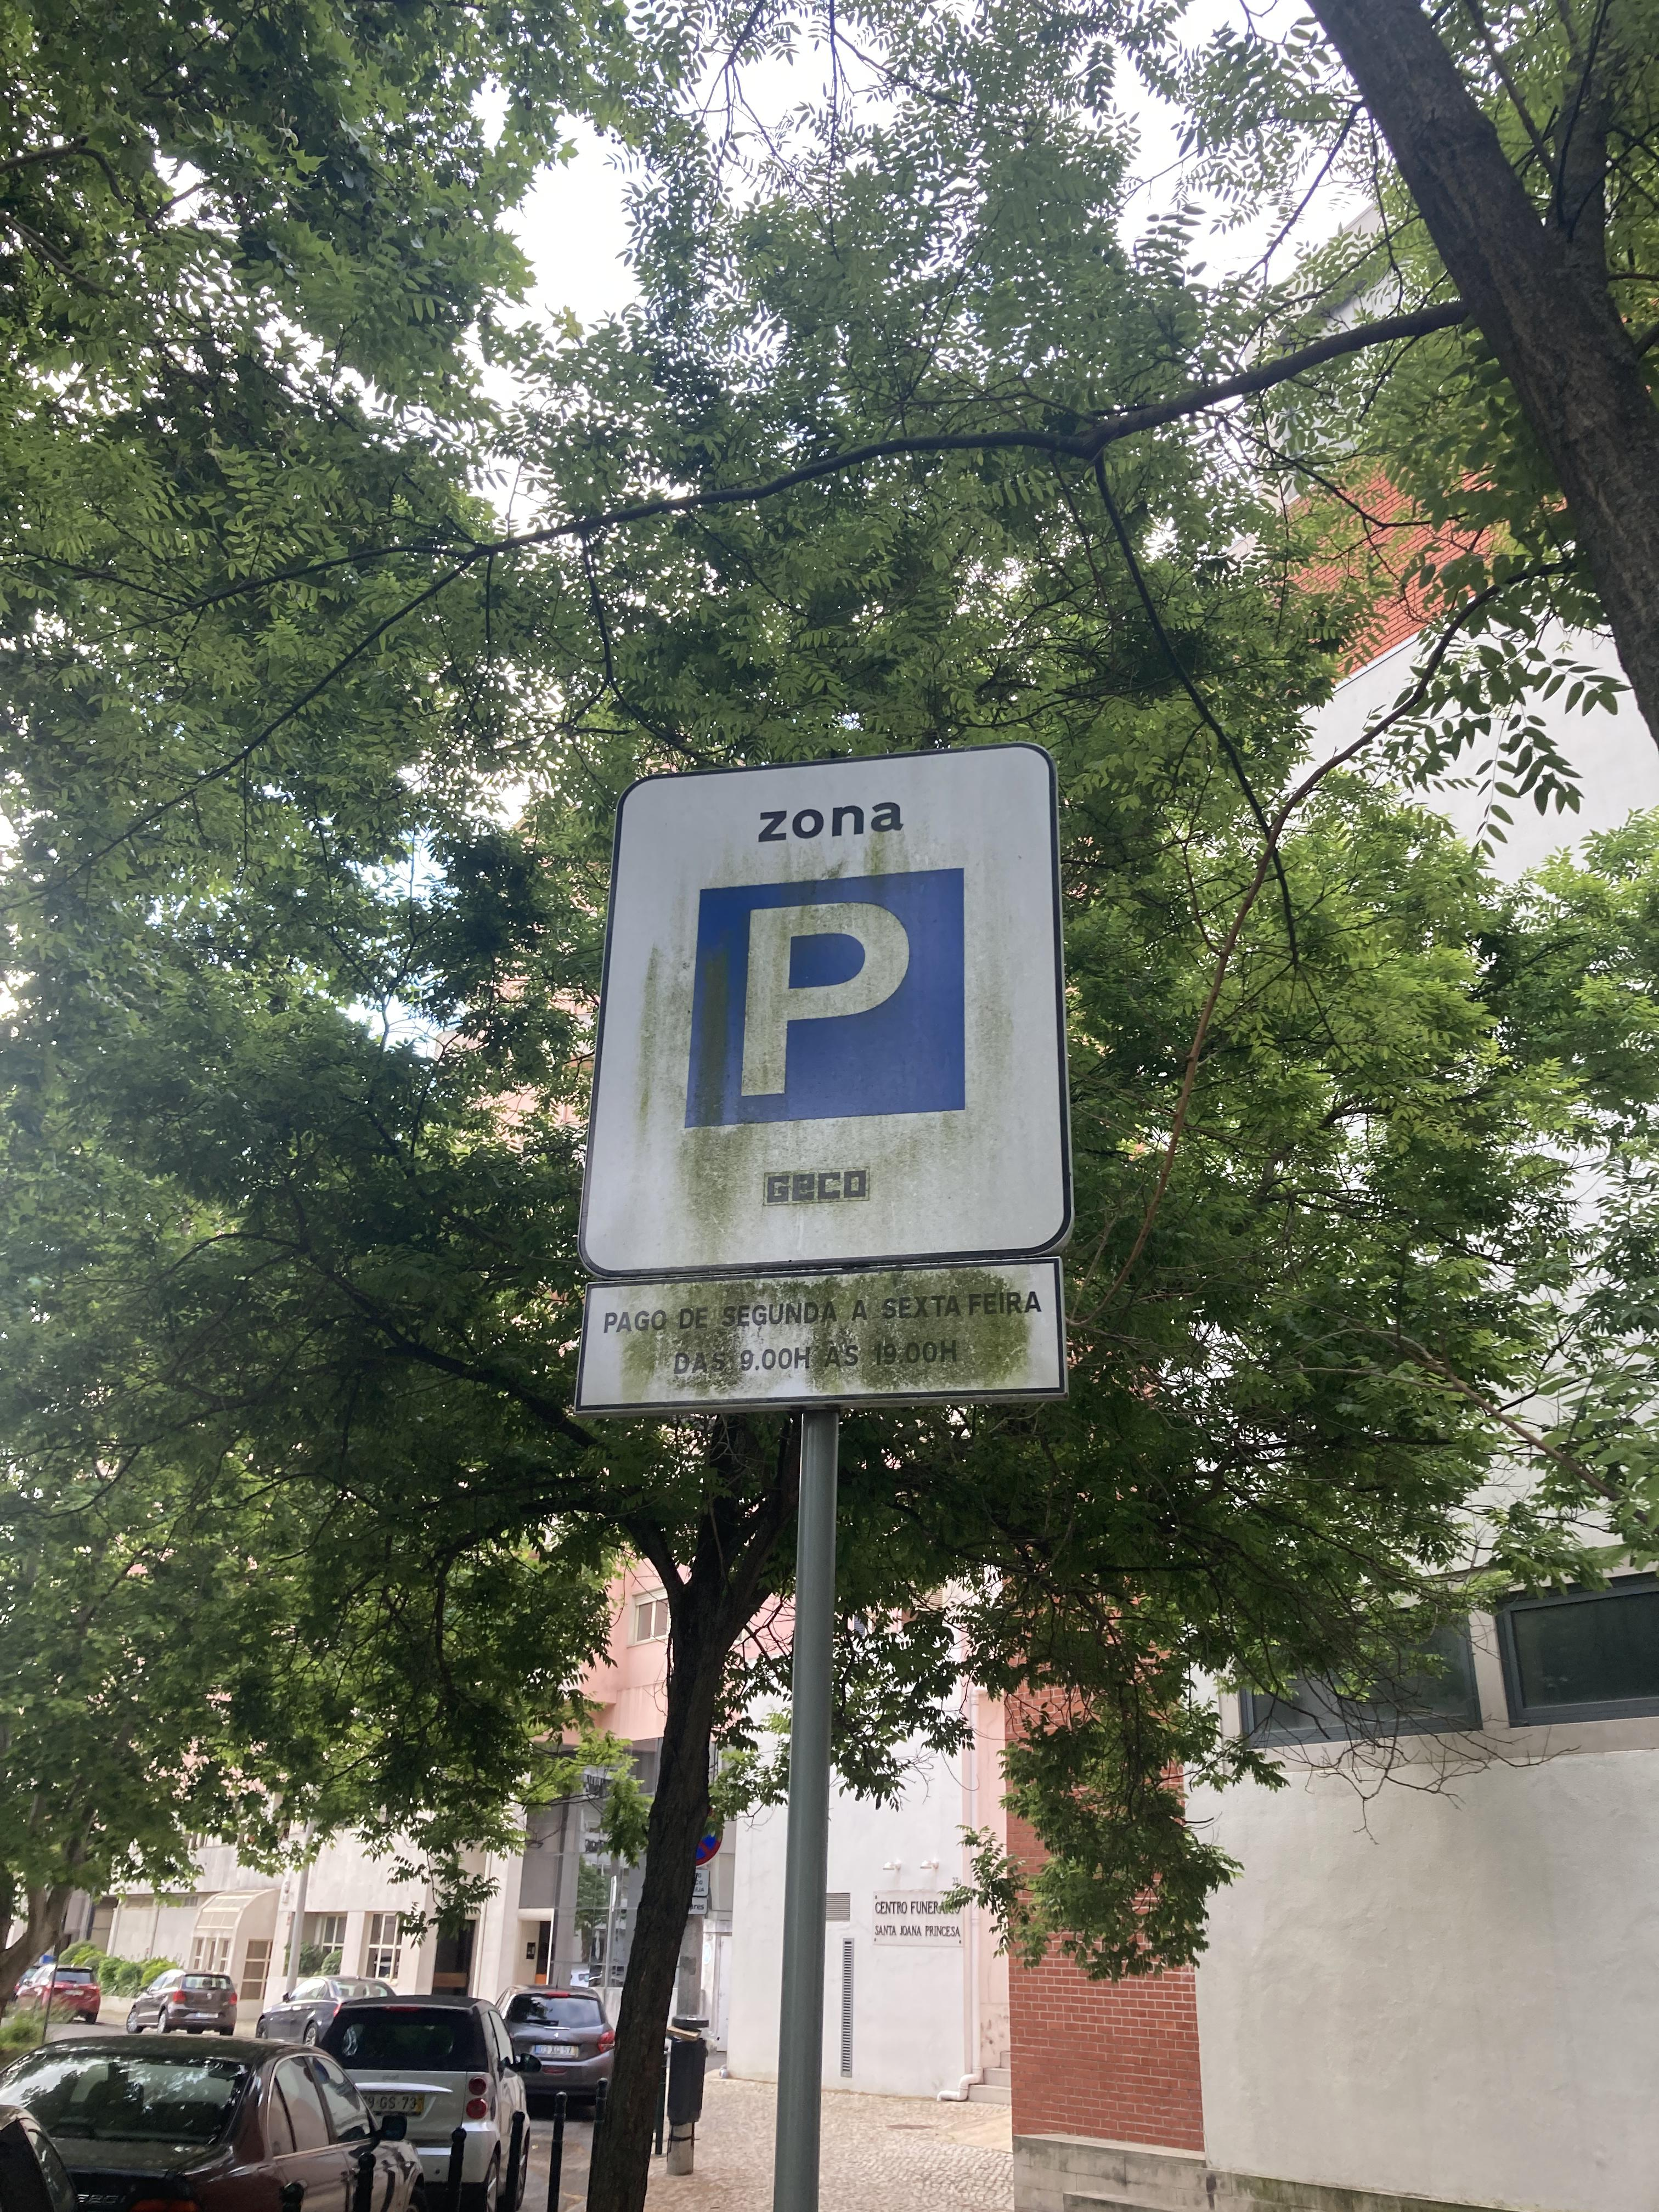zona de estacionamento autorizado: (582, 752, 1065, 1256)
